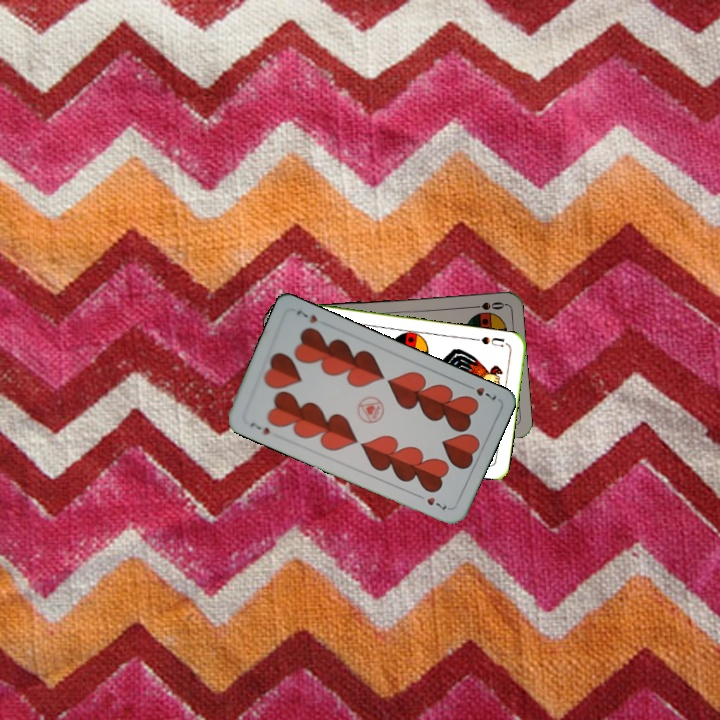H7: (461, 380, 499, 403), (246, 418, 272, 437)
SO: (466, 297, 507, 312)
SU: (470, 332, 510, 349)
